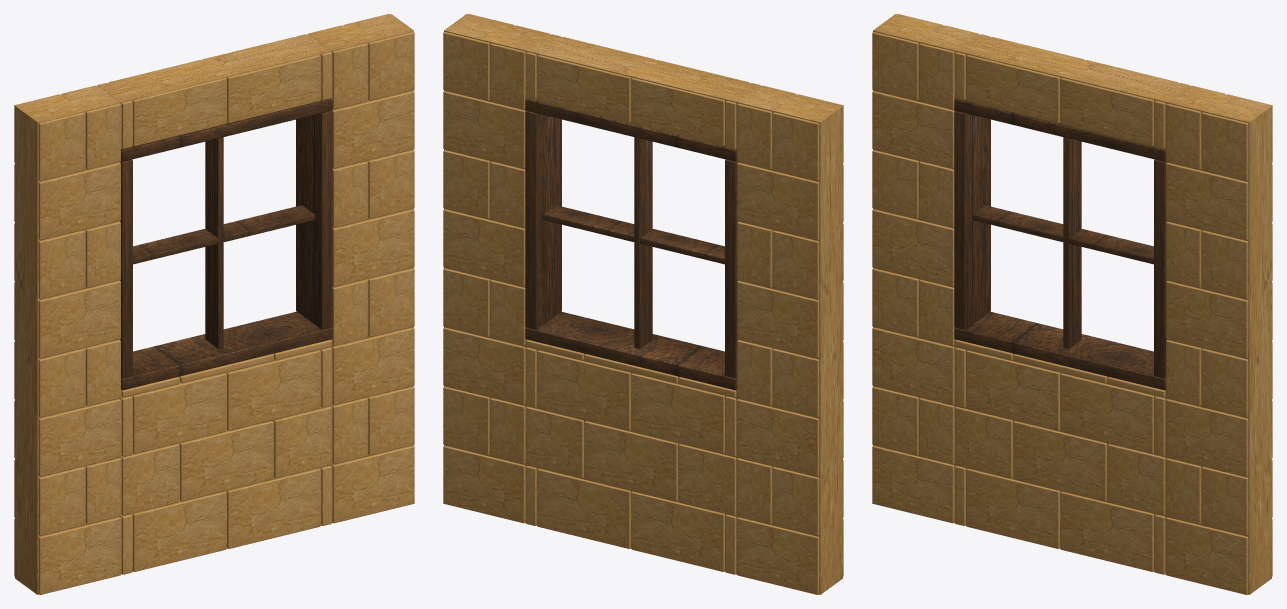
The model's file is SM_MoleControlV2_StoneWindowWall200.fbx.
The picture shows the model from 3 angles, left to right: view 1: azimuth 30°, elevation 25°; view 2: azimuth 150°, elevation 25°; view 3: azimuth 330°, elevation 25°; orthographic projection.
Visible parts, largest first — view 1: SM_MoleControlV2_StoneWindowWall200; view 2: SM_MoleControlV2_StoneWindowWall200; view 3: SM_MoleControlV2_StoneWindowWall200.
Boxes of the visible parts, bbox=[...] form: SM_MoleControlV2_StoneWindowWall200: bbox=[14, 14, 414, 594]; SM_MoleControlV2_StoneWindowWall200: bbox=[443, 14, 843, 594]; SM_MoleControlV2_StoneWindowWall200: bbox=[872, 14, 1272, 594].
Size of what is drawn, in the model's own units: 200 by 24 by 240.
